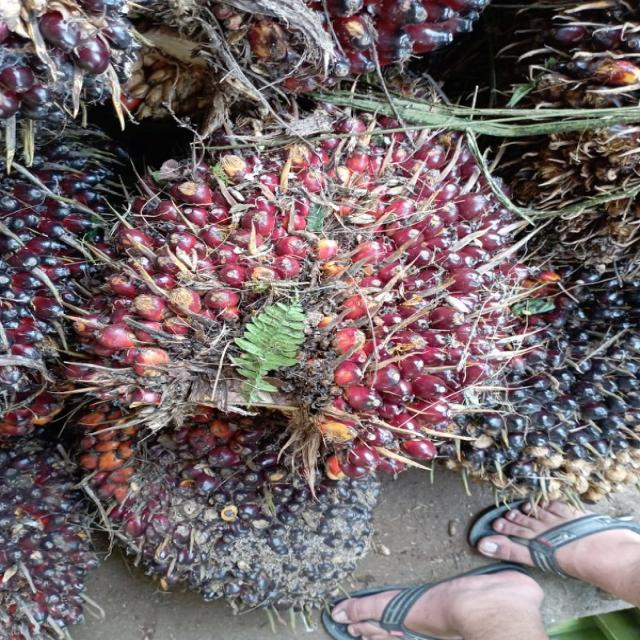fraksi 3: (77, 88, 567, 501)
